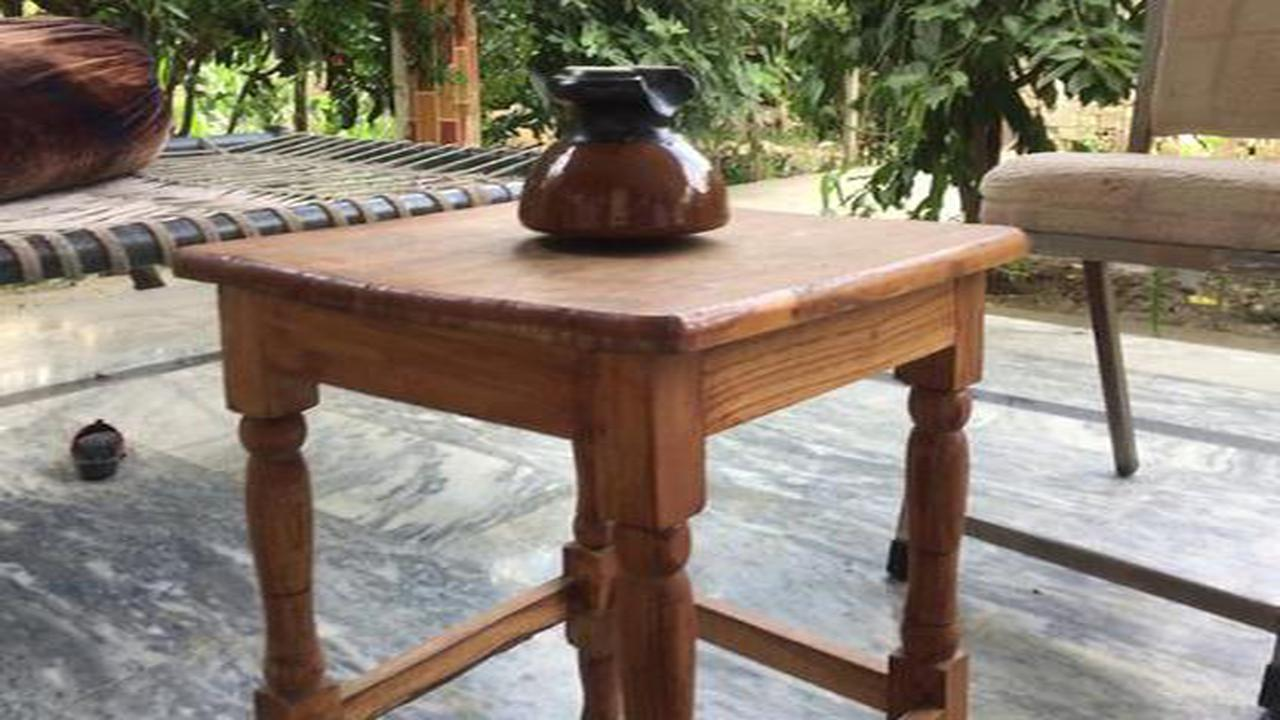insulator_pin: (505, 49, 751, 248)
